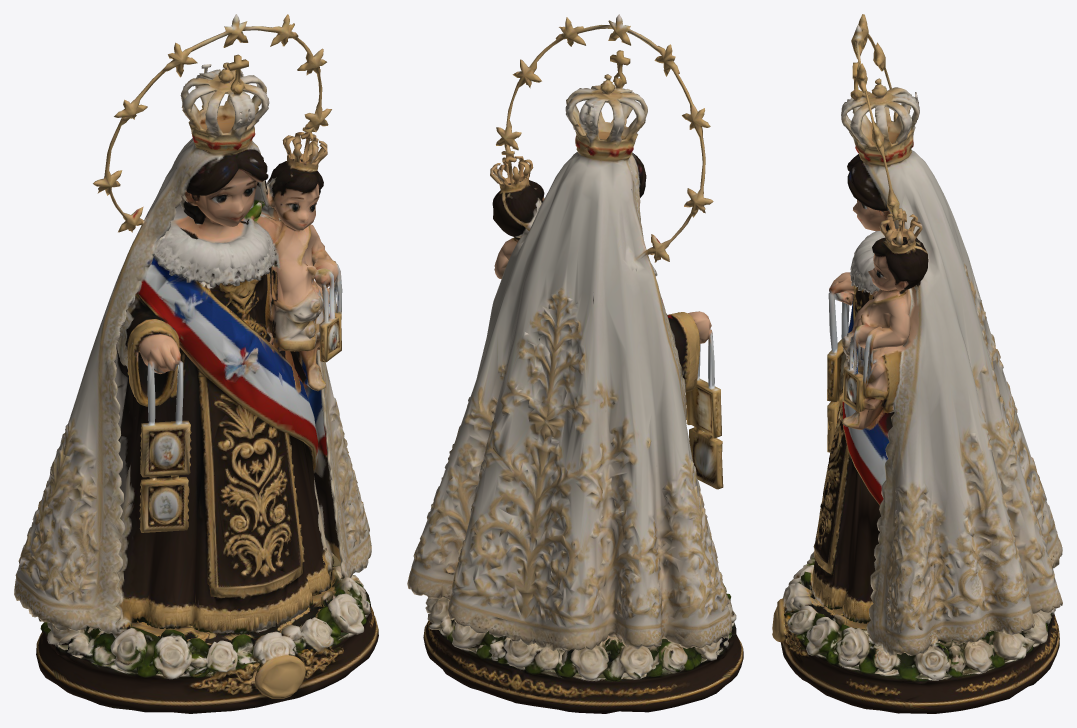
File: virgen_del_carmen.glb
3 renders of one model, left to right at view 1: azimuth 30°, elevation 25°; view 2: azimuth 150°, elevation 25°; view 3: azimuth 270°, elevation 25°, orthographic. The views are drawn at different scales.
Visible parts, largest first — view 1: virgen_del_carmen; view 2: virgen_del_carmen; view 3: virgen_del_carmen.
Part boxes in pixels (box(x1,y1,x2,y2)): virgen_del_carmen: box(14, 14, 378, 713); virgen_del_carmen: box(407, 14, 743, 713); virgen_del_carmen: box(772, 14, 1062, 713).
Size of what is drawn, in the model's own units: 0.7617 by 1.5 by 0.6387.
Materials: 1 (1 with a texture image).
